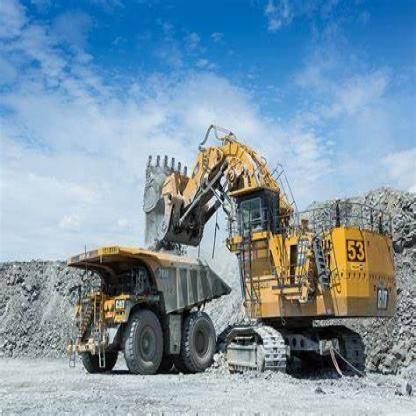dump_truck: (66, 237, 229, 380)
excavator: (137, 125, 406, 383)
